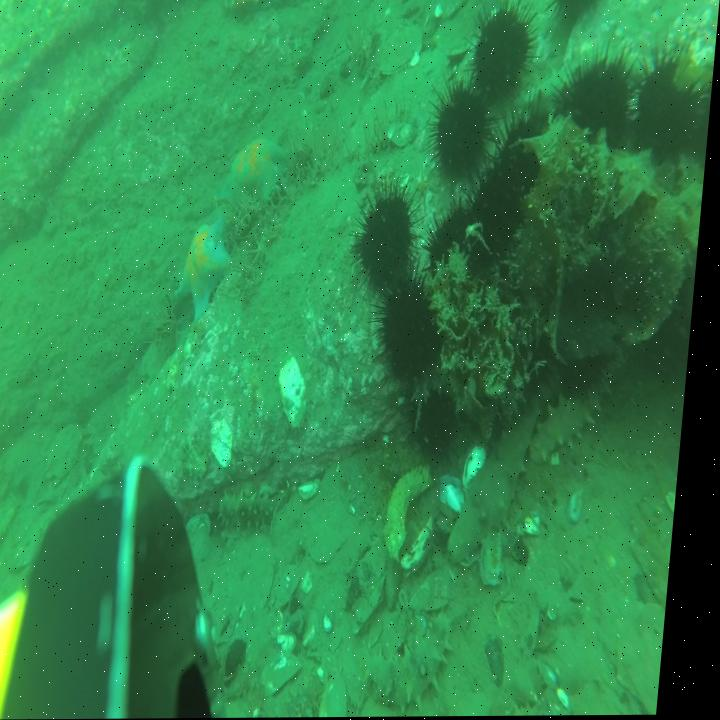echinus: (552, 46, 646, 166), (629, 43, 714, 171), (426, 69, 504, 197), (354, 170, 433, 296), (463, 0, 544, 116), (379, 271, 455, 392), (462, 160, 535, 279), (494, 95, 562, 210), (504, 315, 567, 414), (411, 374, 472, 473), (429, 198, 485, 297), (565, 309, 623, 403), (648, 293, 699, 392), (693, 67, 715, 171), (546, 0, 607, 30)
holothurian: (456, 373, 560, 567), (376, 606, 469, 718), (535, 355, 626, 466), (525, 52, 653, 113), (226, 490, 298, 536)
scallop: (627, 601, 677, 716), (50, 425, 92, 480), (383, 24, 425, 78), (189, 512, 225, 564)
starfish: (179, 217, 239, 324), (226, 137, 292, 206), (0, 292, 9, 392)
